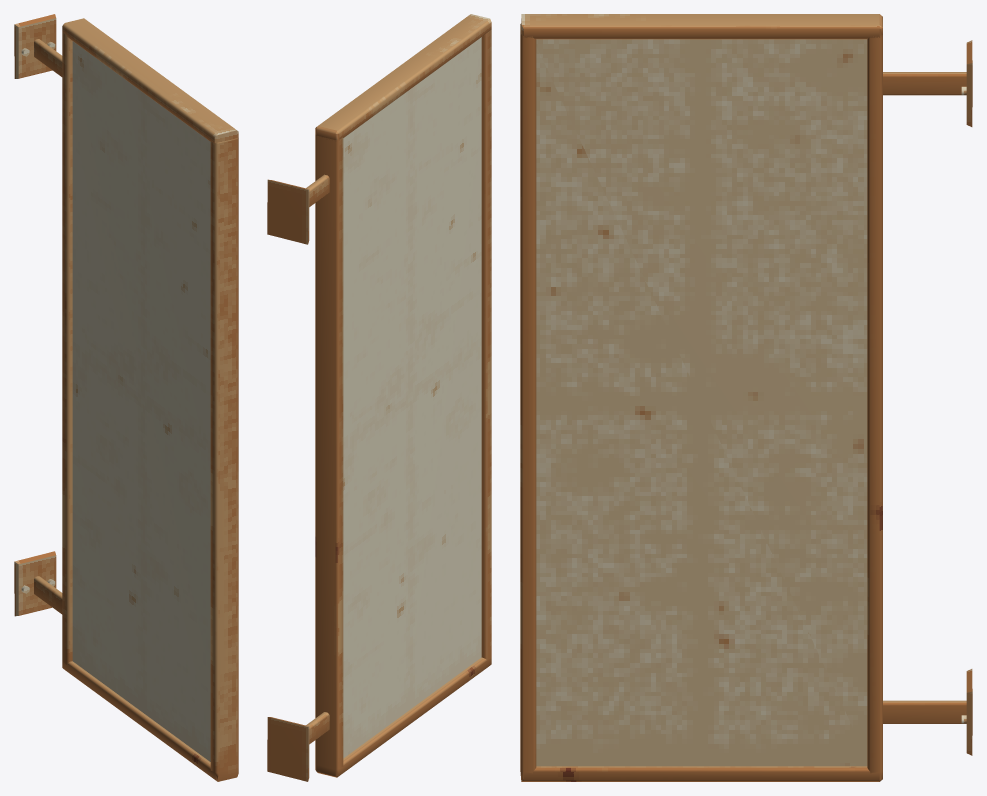
Rendered from blade_sign.glb.
3 views of the same model, side by side, from view 1: azimuth 30°, elevation 25°; view 2: azimuth 150°, elevation 25°; view 3: azimuth 270°, elevation 25° (orthographic). The views are drawn at different scales.
Parts seen in each view (by area): view 1: mesh; view 2: mesh; view 3: mesh.
Part boxes in pixels (x1=…): mesh: x1=14, y1=14, x2=238, y2=781; mesh: x1=267, y1=14, x2=491, y2=781; mesh: x1=520, y1=14, x2=972, y2=781.
Bounding box in the file's own units: 0.0705 × 1.06 × 0.5737.
1 material, 1 textured.
